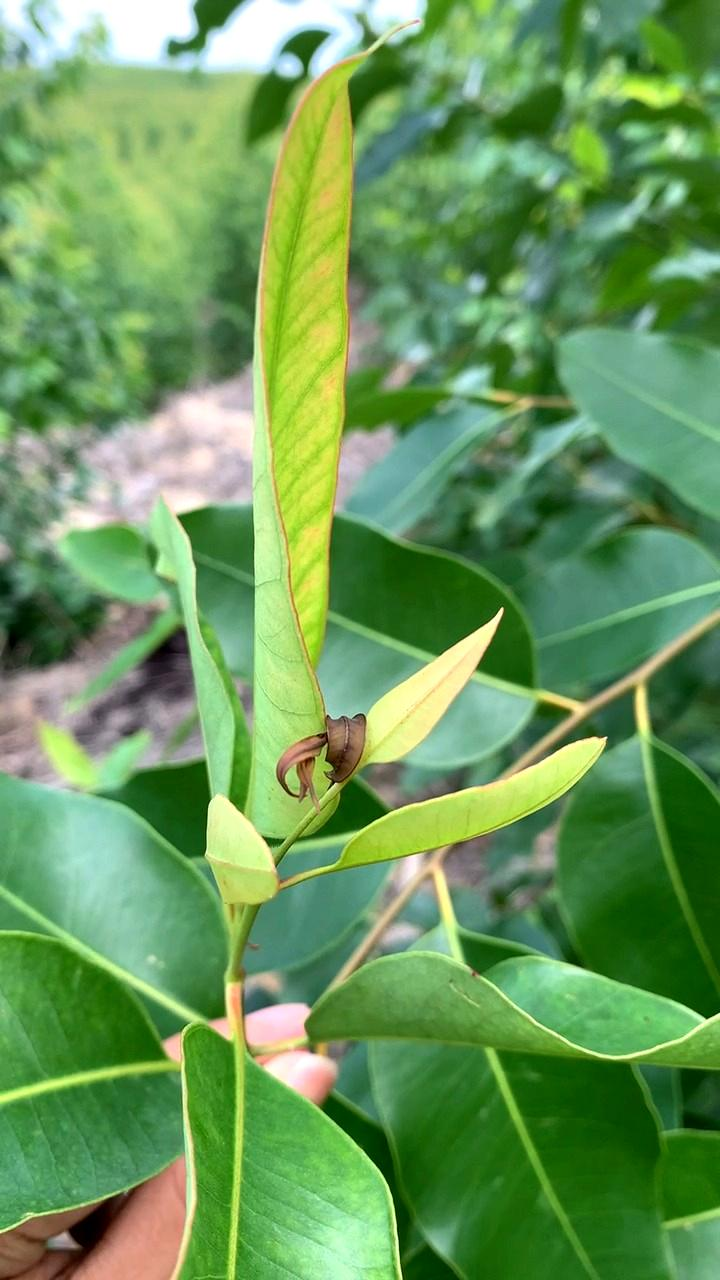Helopeltis-Withered Sprout: (257, 685, 385, 827)
